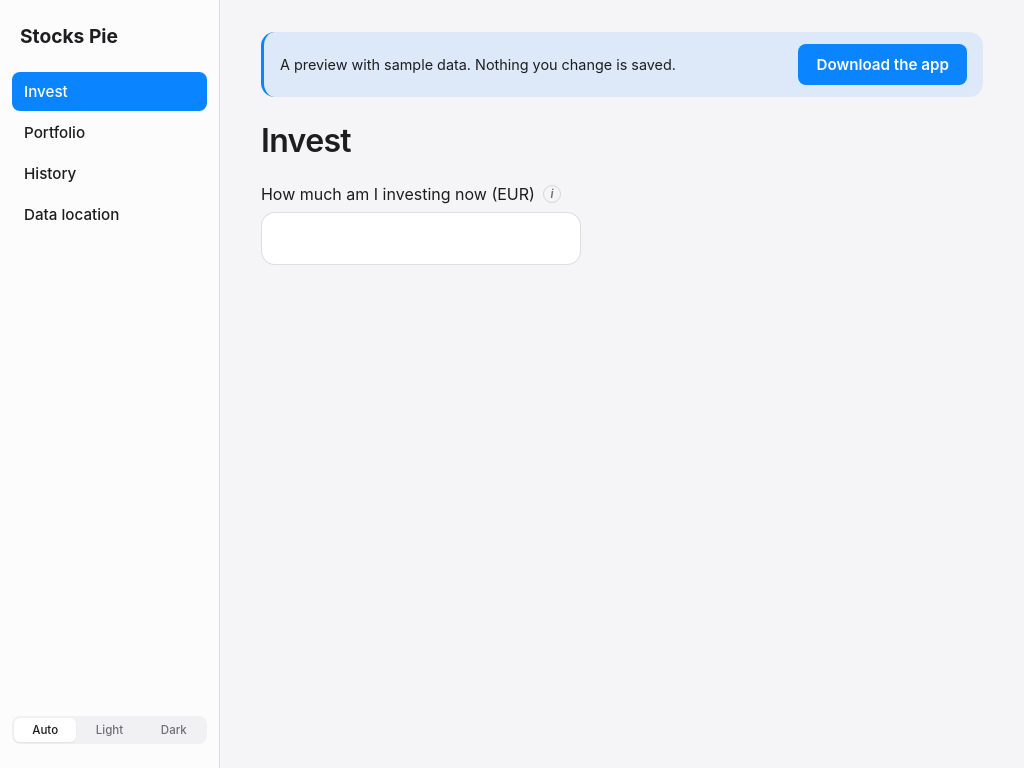
Scenario: App › shows amounts in the portfolio currency
The image size is (1024, 768).
Type "100000" into the number field labelled "How much am I investing now (EUR)" at (421, 239), box [261, 212, 581, 265]
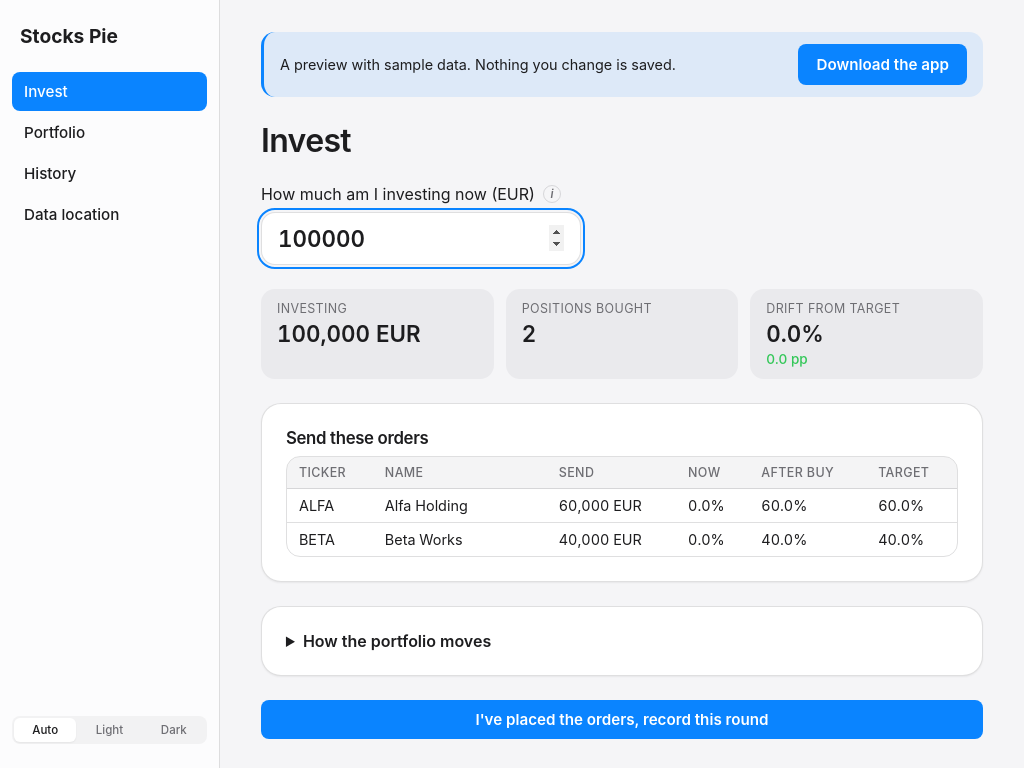
Expected: the text "100,000 EUR" is shown, [277, 320, 421, 347]
